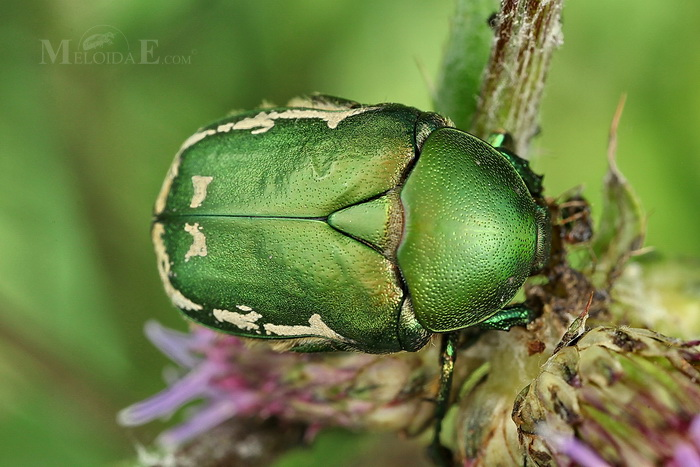Protaetia_ungarica: (141, 88, 562, 414)
